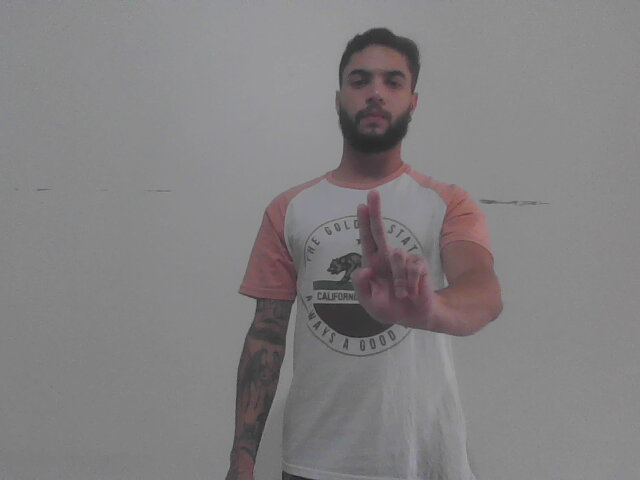u: (348, 184, 438, 338)
